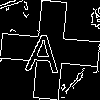A: (25, 25, 63, 73)
